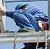boots: (0, 45, 11, 49), (0, 46, 9, 49)
hard-hat: (15, 0, 28, 8)
ppe-suit: (0, 24, 25, 49)
